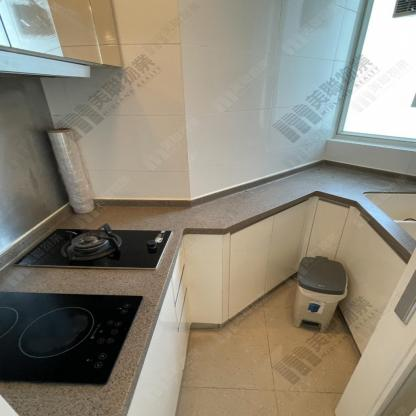Cupboard: (186, 199, 315, 326)
Exhaust Hood: (0, 50, 94, 79)
Sink: (0, 283, 162, 400), (0, 218, 187, 283)
Stove: (13, 224, 171, 268)
